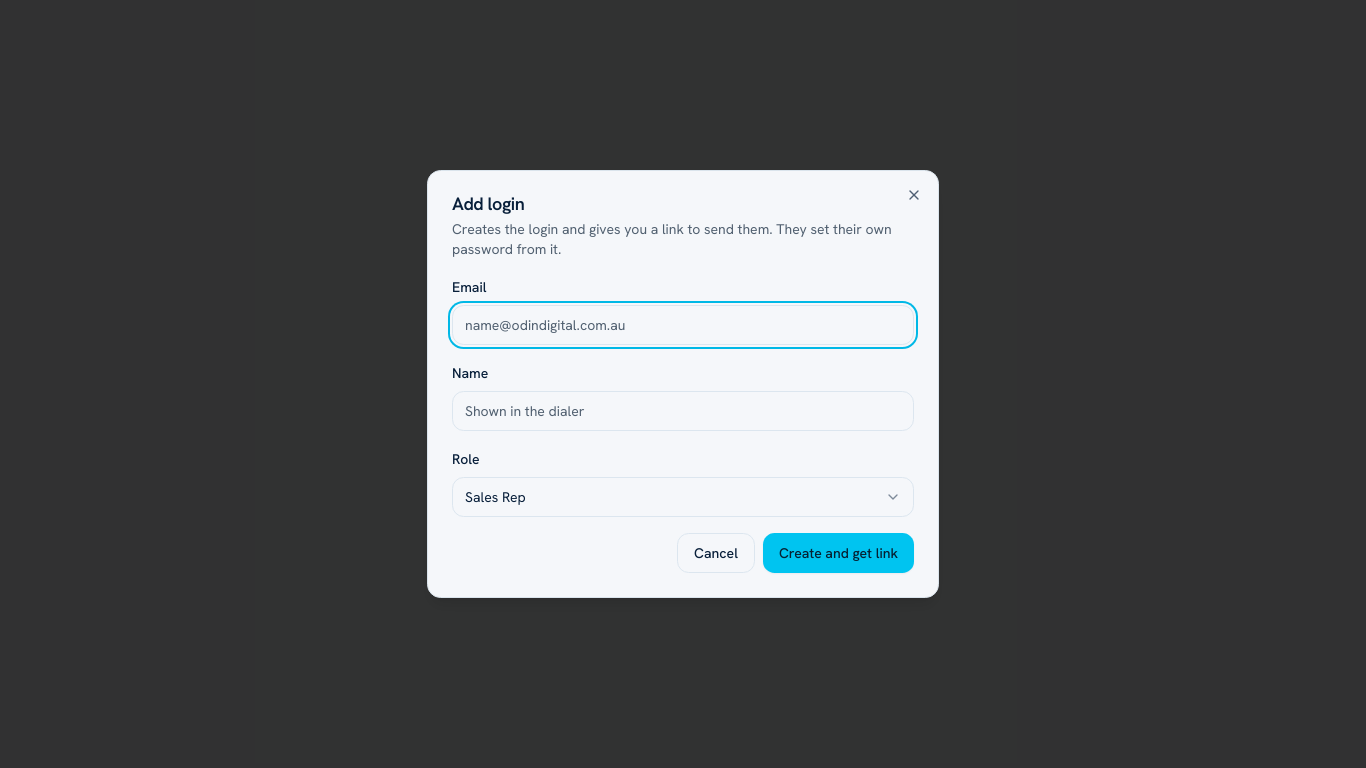
it: login links › creates a login with no password and shows the one-time link to copy
The image size is (1366, 768).
Type "lucas@odindigital.com.au" into the field labelled "Email" at (683,325), box [452,305,914,345]
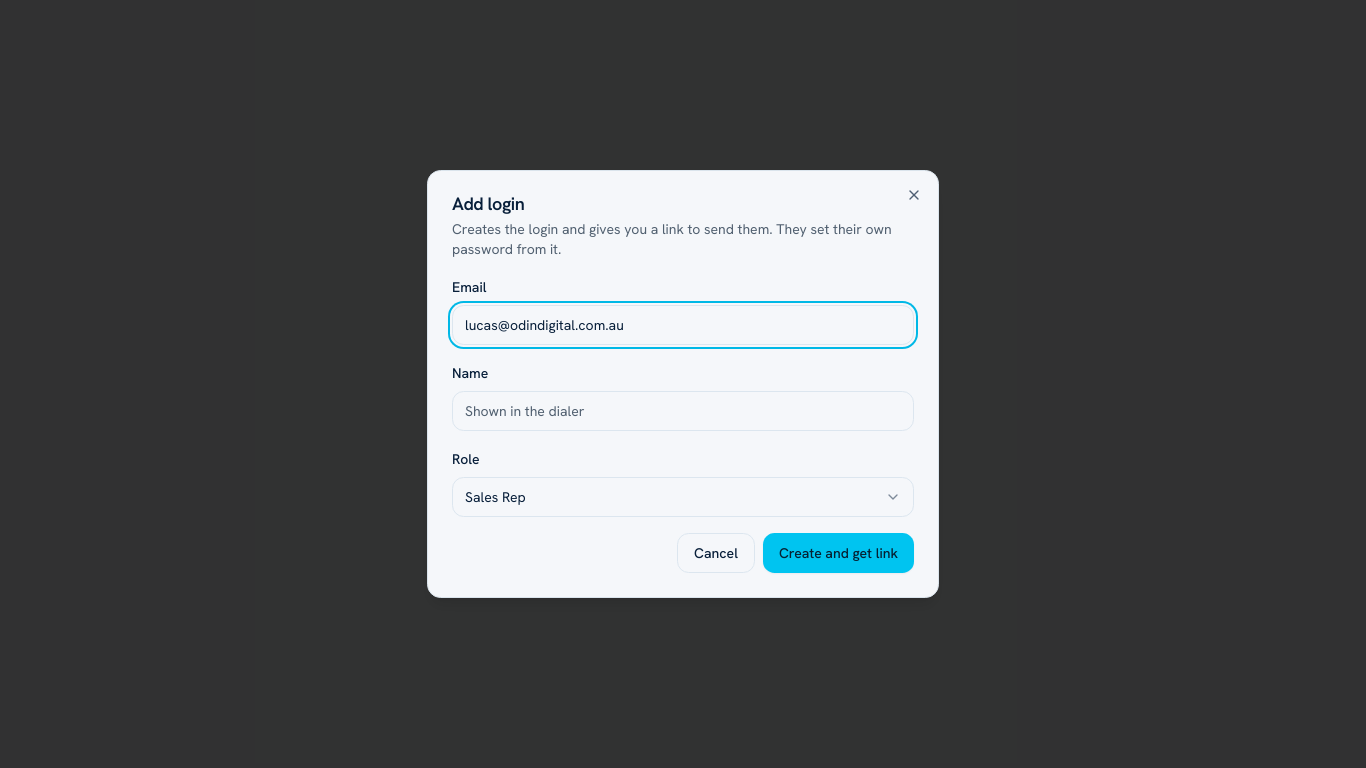
Type "Lucas Durante" into the field labelled "Name" at (683,411), box [452,391,914,431]
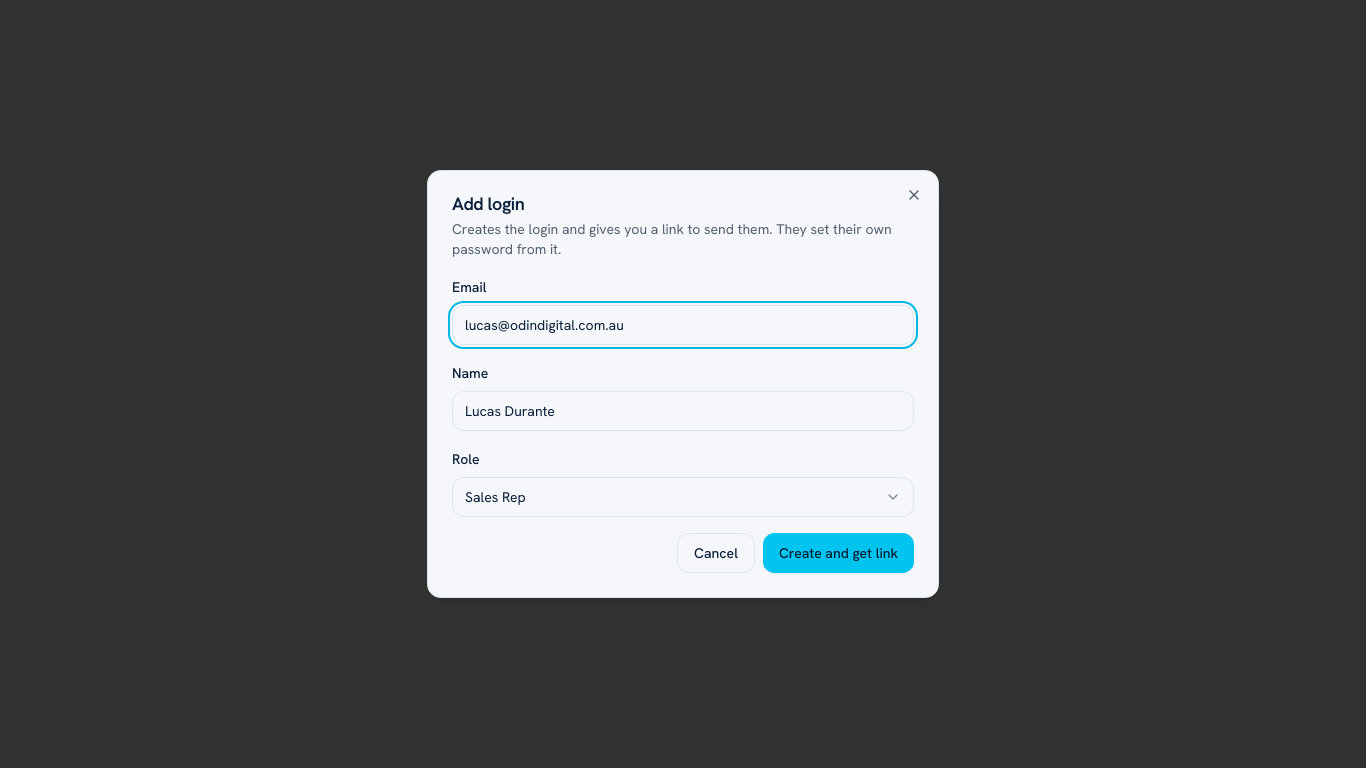
Click the button "Create and get link" at (838,553), box [763,533,914,573]
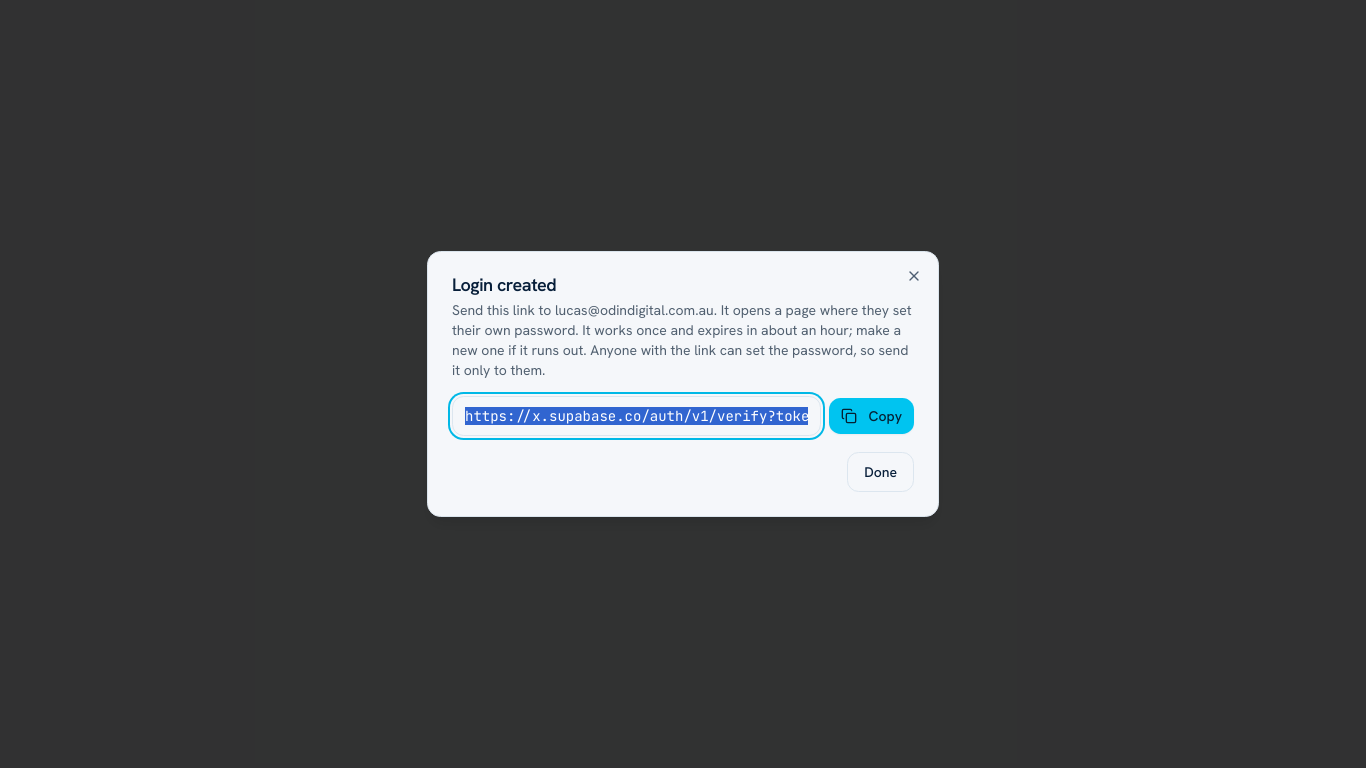
Expected: the heading "Login created" is shown, [452,273,556,296]
Expected: the field named "Login link" holds "https://x.supabase.co/auth/v1/verify?token=abc&type=recovery", [452,396,821,436]
